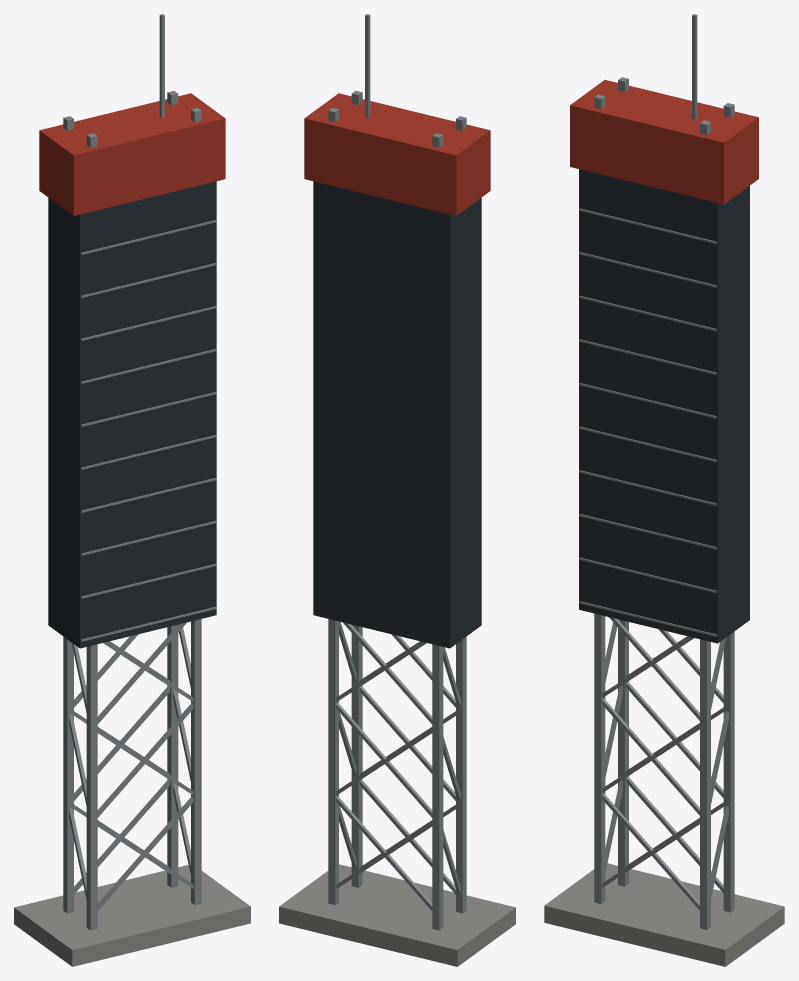
File: apex-pylon.glb
3 views of the same model, side by side, from view 1: azimuth 30°, elevation 25°; view 2: azimuth 150°, elevation 25°; view 3: azimuth 330°, elevation 25° (orthographic).
Visible parts, largest first — view 1: Apex timing pylon; view 2: Apex timing pylon; view 3: Apex timing pylon.
Boxes of the visible parts, <box> form: Apex timing pylon: <box>14,14,250,966</box>; Apex timing pylon: <box>279,14,515,966</box>; Apex timing pylon: <box>544,14,784,966</box>.
Size of the model in its own units: 6 by 28.95 by 3.4.
